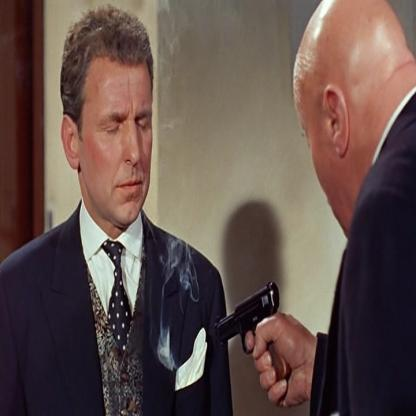gun: (215, 281, 293, 377)
